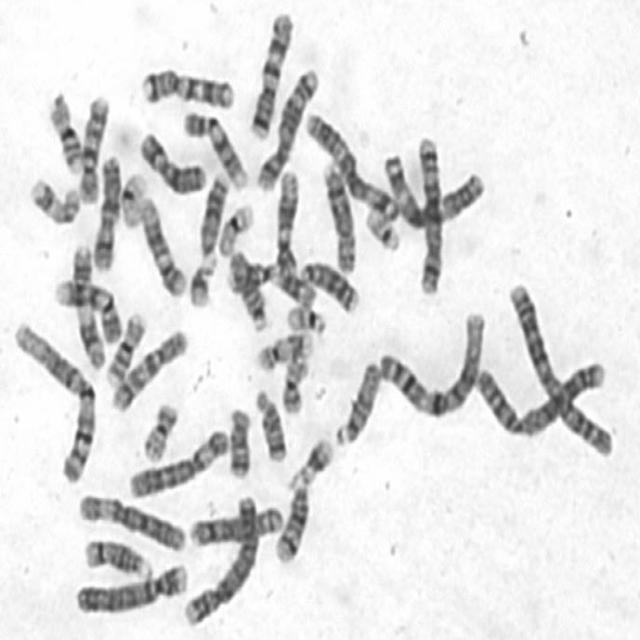A1: (10, 321, 100, 489), (374, 306, 490, 422)
A2: (507, 277, 621, 458), (473, 360, 607, 437)
A3: (304, 113, 400, 224), (383, 148, 488, 234)
B4: (182, 493, 259, 626), (74, 560, 190, 617)
B5: (255, 66, 322, 190), (416, 136, 447, 298)
C10: (112, 330, 190, 413), (79, 90, 110, 204)
C11: (70, 242, 108, 373), (225, 261, 318, 311)
C12: (140, 198, 188, 300), (276, 170, 299, 280)
C6: (127, 428, 230, 498), (78, 492, 187, 554)
C7: (246, 9, 297, 143), (139, 67, 236, 111)
C8: (320, 162, 358, 274), (188, 505, 284, 547)
C9: (182, 110, 250, 190), (54, 278, 124, 344)
D13: (298, 262, 362, 313), (198, 176, 231, 264)
D14: (273, 469, 308, 566), (85, 537, 154, 579)
D15: (334, 362, 383, 448), (228, 249, 270, 333)
E16: (105, 308, 149, 387), (49, 90, 85, 174)
E17: (28, 177, 81, 228), (256, 330, 317, 373)
E18: (254, 388, 288, 462), (226, 403, 252, 481)
F19: (216, 205, 256, 258), (120, 173, 148, 230)
F20: (141, 405, 180, 463), (280, 356, 311, 417)
G21: (299, 439, 334, 484), (188, 265, 217, 312)
G22: (364, 204, 404, 255), (287, 303, 326, 334)
X: (139, 132, 207, 196), (93, 155, 123, 272)
